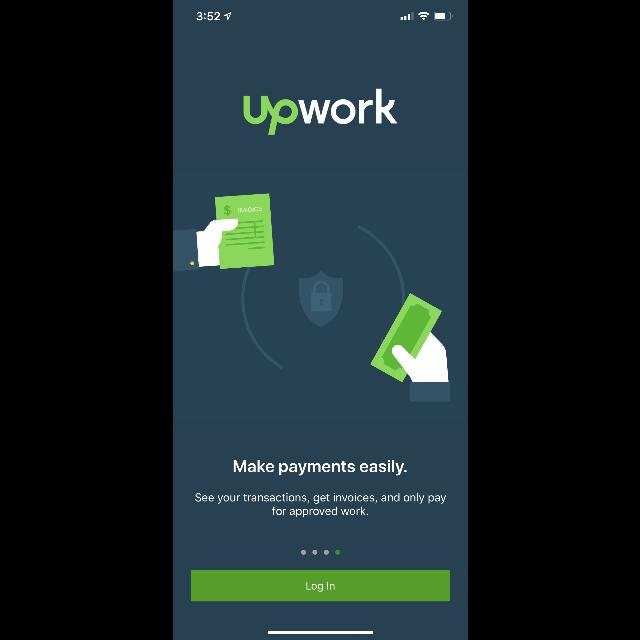image: (172, 193, 450, 401), (243, 89, 397, 135)
pageindicator: (300, 550, 340, 554)
text: (194, 493, 446, 517), (234, 460, 406, 476)
textbutton: (190, 570, 450, 602)
uppertaskbar: (196, 12, 452, 21)
